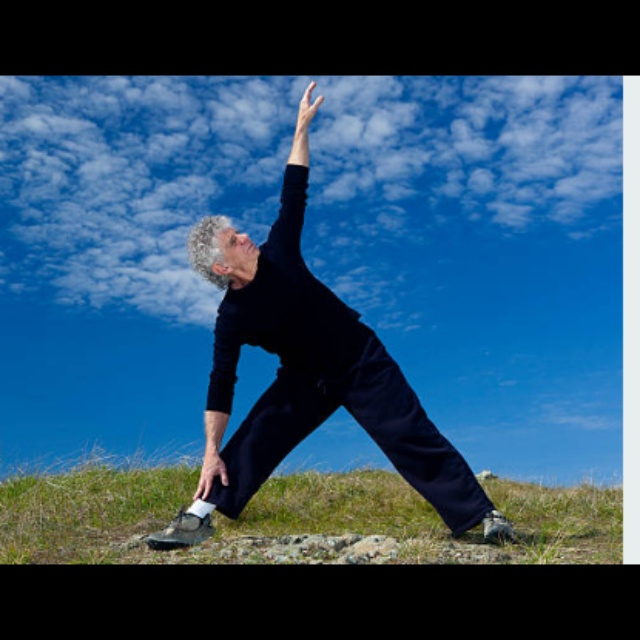Triangle_Pose: (142, 78, 531, 558)
